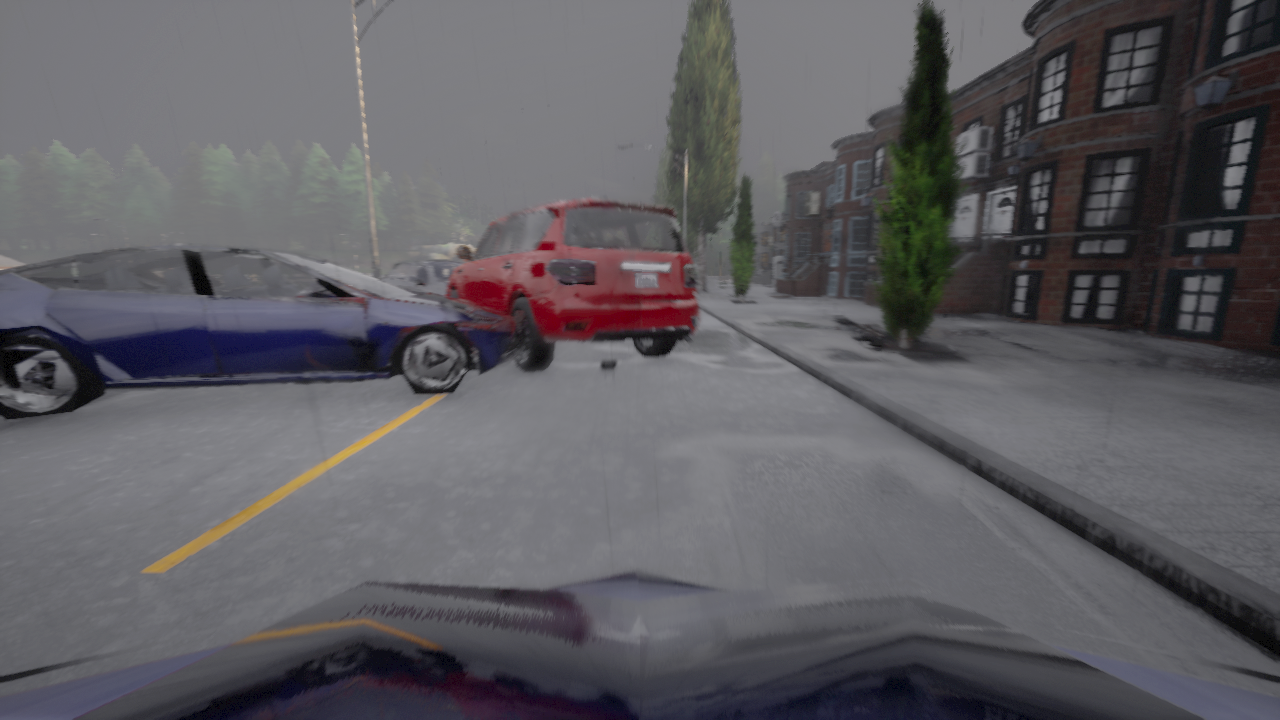cyclist: (0, 569, 1279, 719), (0, 243, 518, 419), (446, 198, 700, 372), (380, 259, 464, 295)
